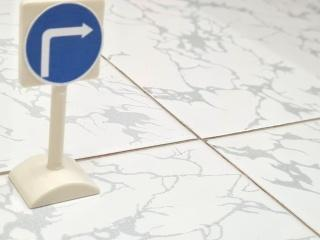right: (5, 2, 123, 90)
